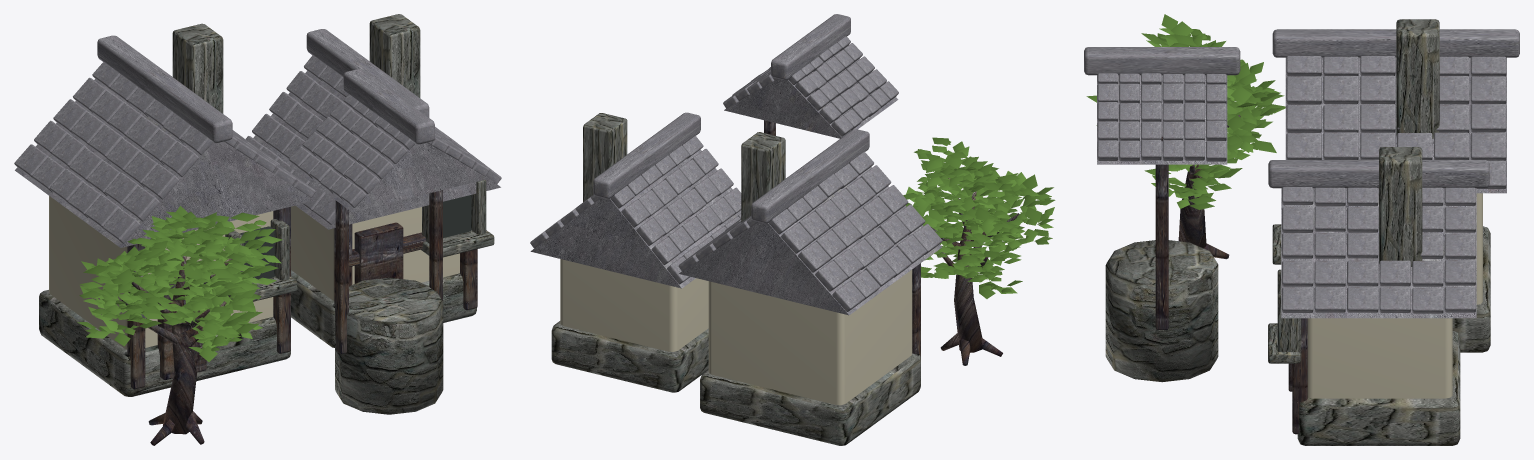
The model's file is env-site-village.glb.
The picture shows the model from 3 angles, left to right: view 1: azimuth 30°, elevation 25°; view 2: azimuth 150°, elevation 25°; view 3: azimuth 270°, elevation 25°; orthographic projection. The views are drawn at different scales.
Parts seen in each view (by area): view 1: site village · authored textured miniature; view 2: site village · authored textured miniature; view 3: site village · authored textured miniature.
Boxes of the visible parts, left/top/right/bottom form: site village · authored textured miniature: left=14, top=14, right=501, bottom=445; site village · authored textured miniature: left=530, top=14, right=1055, bottom=445; site village · authored textured miniature: left=1084, top=14, right=1519, bottom=445.
Bounding box in the file's own units: 1.28 × 0.8125 × 1.
Materials: 6 (3 with a texture image).
